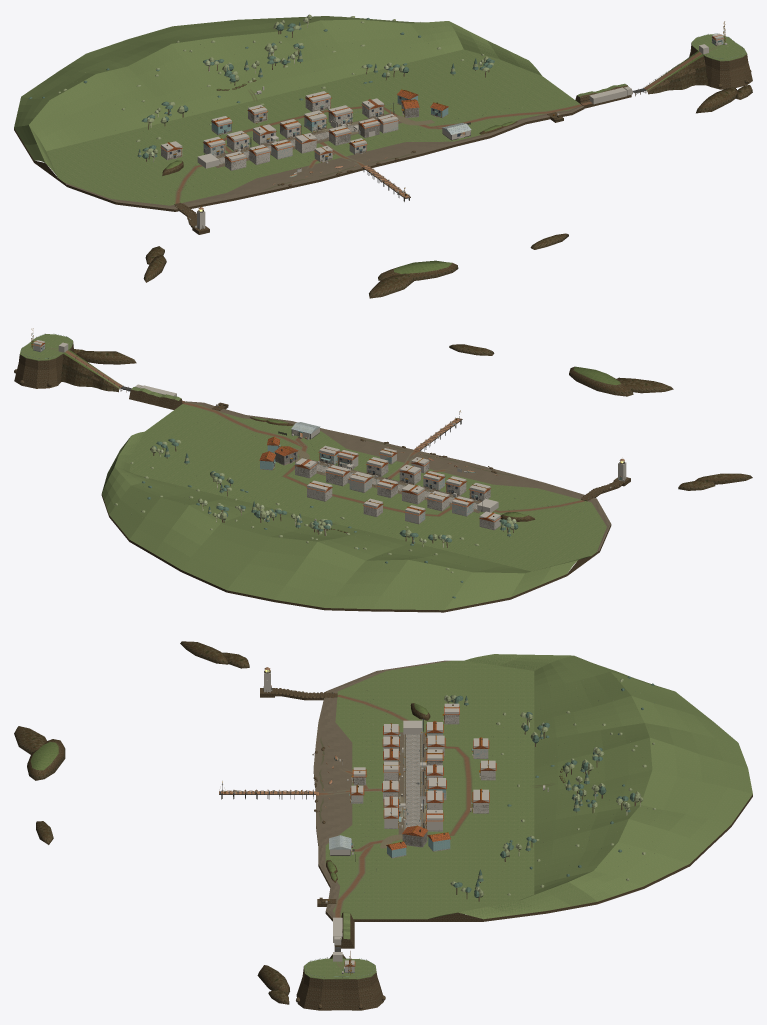
File: town.glb
3 renders of one model, top to bottom at view 1: azimuth 30°, elevation 25°; view 2: azimuth 150°, elevation 25°; view 3: azimuth 270°, elevation 25°, orthographic. The views are drawn at different scales.
Parts seen in each view (by area): view 1: Northern fields, Tide line, Lanes and shoreline, Northern windbreaks, Station / headland, Spray ledge, exposed ridge and relay station, Outer bay shoals, Windward fields and lighthouse approaches, Old street paving, Workshop yard and service track, Residential lanes and drainage, Dunes and undergrowth; view 2: Northern fields, Tide line, Lanes and shoreline, Northern windbreaks, Station / headland, Outer bay shoals, Spray ledge, exposed ridge and relay station, Windward fields and lighthouse approaches, Storm / spray ledge, Residential lanes and drainage, Old street paving, Workshop yard and service track (+1 smaller); view 3: Northern fields, Tide line, Station / headland, Lanes and shoreline, Northern windbreaks, Old street paving, Outer bay shoals, Windward fields and lighthouse approaches, Residential lanes and drainage, Spray ledge, exposed ridge and relay station, Workshop yard and service track, Lighthouse / masonry.
Part boxes in pixels (left/top/right/bottom): Northern fields: left=14, top=16, right=580, bottom=205; Tide line: left=65, top=105, right=583, bottom=209; Lanes and shoreline: left=14, top=104, right=584, bottom=211; Northern windbreaks: left=137, top=14, right=494, bottom=162; Station / headland: left=689, top=34, right=752, bottom=89; Spray ledge, exposed ridge and relay station: left=582, top=42, right=752, bottom=113; Outer bay shoals: left=369, top=233, right=568, bottom=298; Windward fields and lighthouse approaches: left=143, top=79, right=257, bottom=282; Old street paving: left=215, top=113, right=402, bottom=167; Workshop yard and service track: left=411, top=105, right=578, bottom=140; Residential lanes and drainage: left=162, top=106, right=396, bottom=175; Dunes and undergrowth: left=29, top=16, right=539, bottom=197; Northern fields: left=102, top=404, right=606, bottom=610; Tide line: left=185, top=401, right=610, bottom=551; Lanes and shoreline: left=101, top=402, right=611, bottom=612; Northern windbreaks: left=150, top=438, right=518, bottom=547; Station / headland: left=14, top=334, right=74, bottom=388; Outer bay shoals: left=449, top=344, right=673, bottom=396; Spray ledge, exposed ridge and relay station: left=33, top=347, right=136, bottom=391; Windward fields and lighthouse approaches: left=308, top=473, right=752, bottom=532; Storm / spray ledge: left=129, top=386, right=185, bottom=409; Residential lanes and drainage: left=282, top=461, right=535, bottom=521; Old street paving: left=311, top=460, right=480, bottom=512; Workshop yard and service track: left=185, top=403, right=319, bottom=457; Northern fields: left=325, top=654, right=752, bottom=919; Tide line: left=312, top=660, right=450, bottom=918; Station / headland: left=296, top=958, right=385, bottom=1010; Lanes and shoreline: left=313, top=694, right=752, bottom=921; Northern windbreaks: left=444, top=695, right=643, bottom=901; Old street paving: left=398, top=732, right=427, bottom=834; Outer bay shoals: left=14, top=726, right=65, bottom=844; Windward fields and lighthouse approaches: left=180, top=641, right=566, bottom=787; Residential lanes and drainage: left=400, top=703, right=472, bottom=836; Spray ledge, exposed ridge and relay station: left=257, top=955, right=354, bottom=1004; Workshop yard and service track: left=326, top=839, right=399, bottom=917; Lighthouse / masonry: left=260, top=688, right=337, bottom=700.
Size of what is drawn, in the model's own units: 360 by 24.73 by 304.
31 materials, 27 textured.
